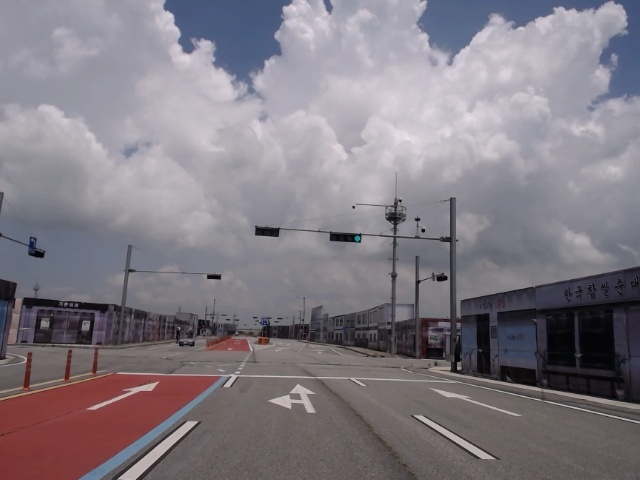straight_green_4: (330, 231, 364, 244)
